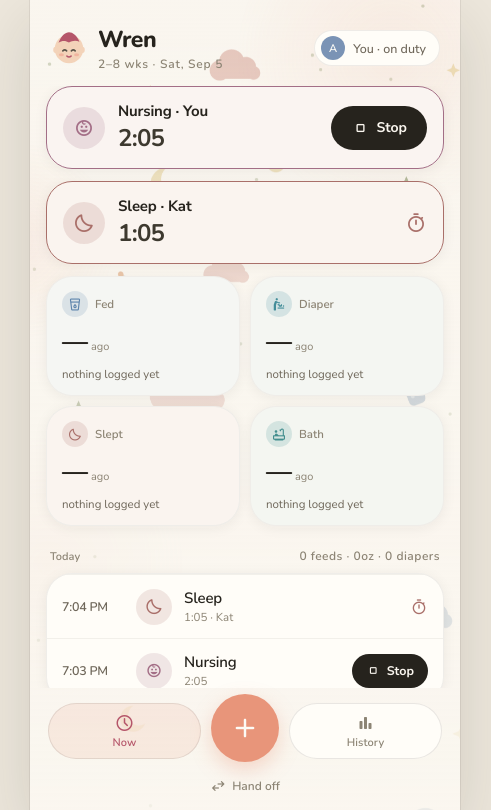
multi-timer rows › the Today-list row stops in one tap too
Check: the text "Nursing · You" is shown, box [118,101,208,121]
Click the text "Stop" in the row of "7:03 PM".
click(400, 670)  # box [387,662,414,679]
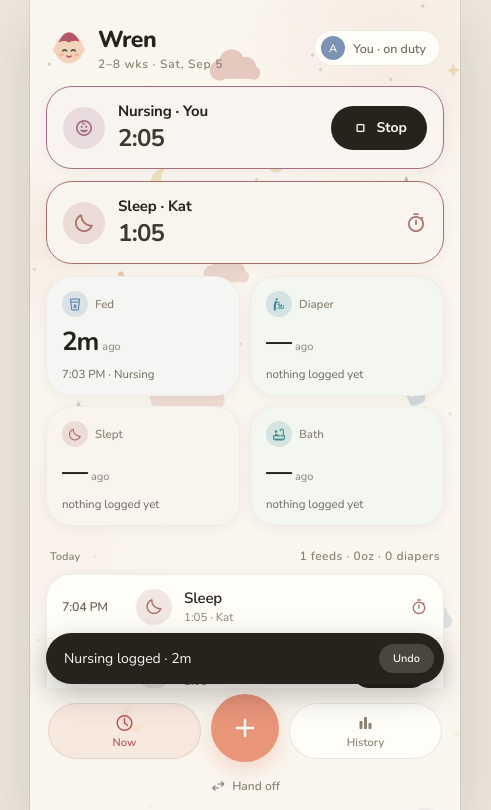
Check: the text "Nursing logged · 2m" is shown, box [64,649,192,668]
